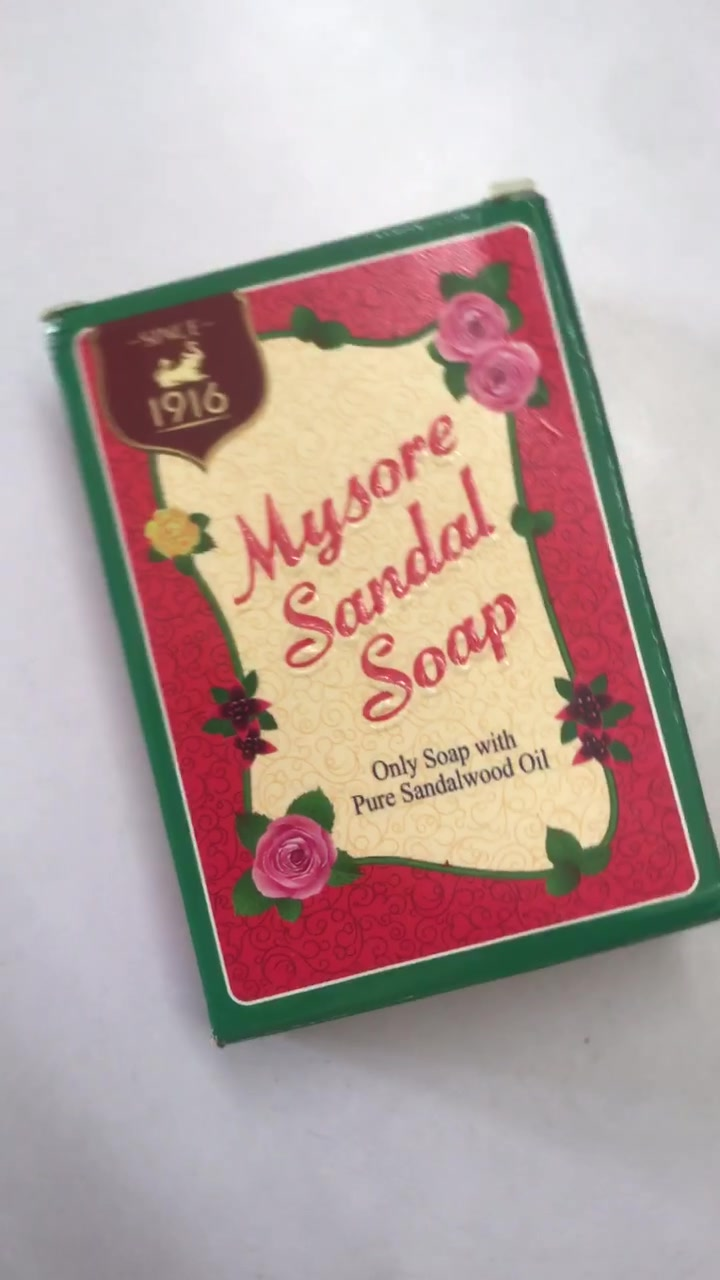mysore sandal soap: (52, 206, 713, 1055)
